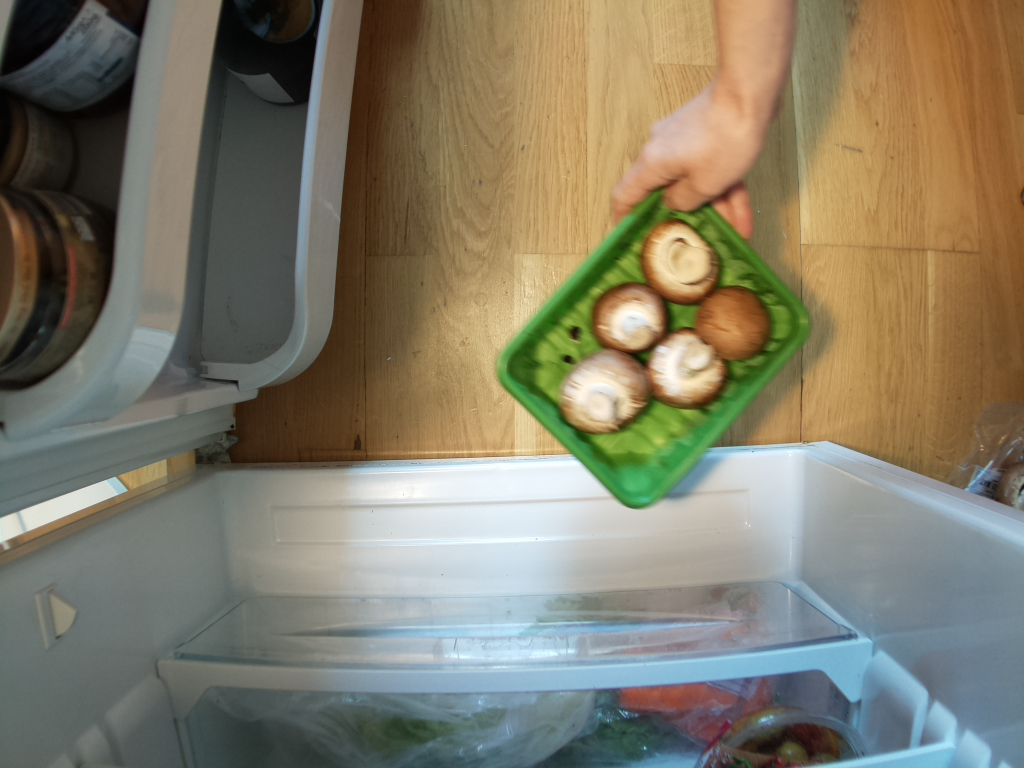mushrooms: (499, 183, 815, 511)
